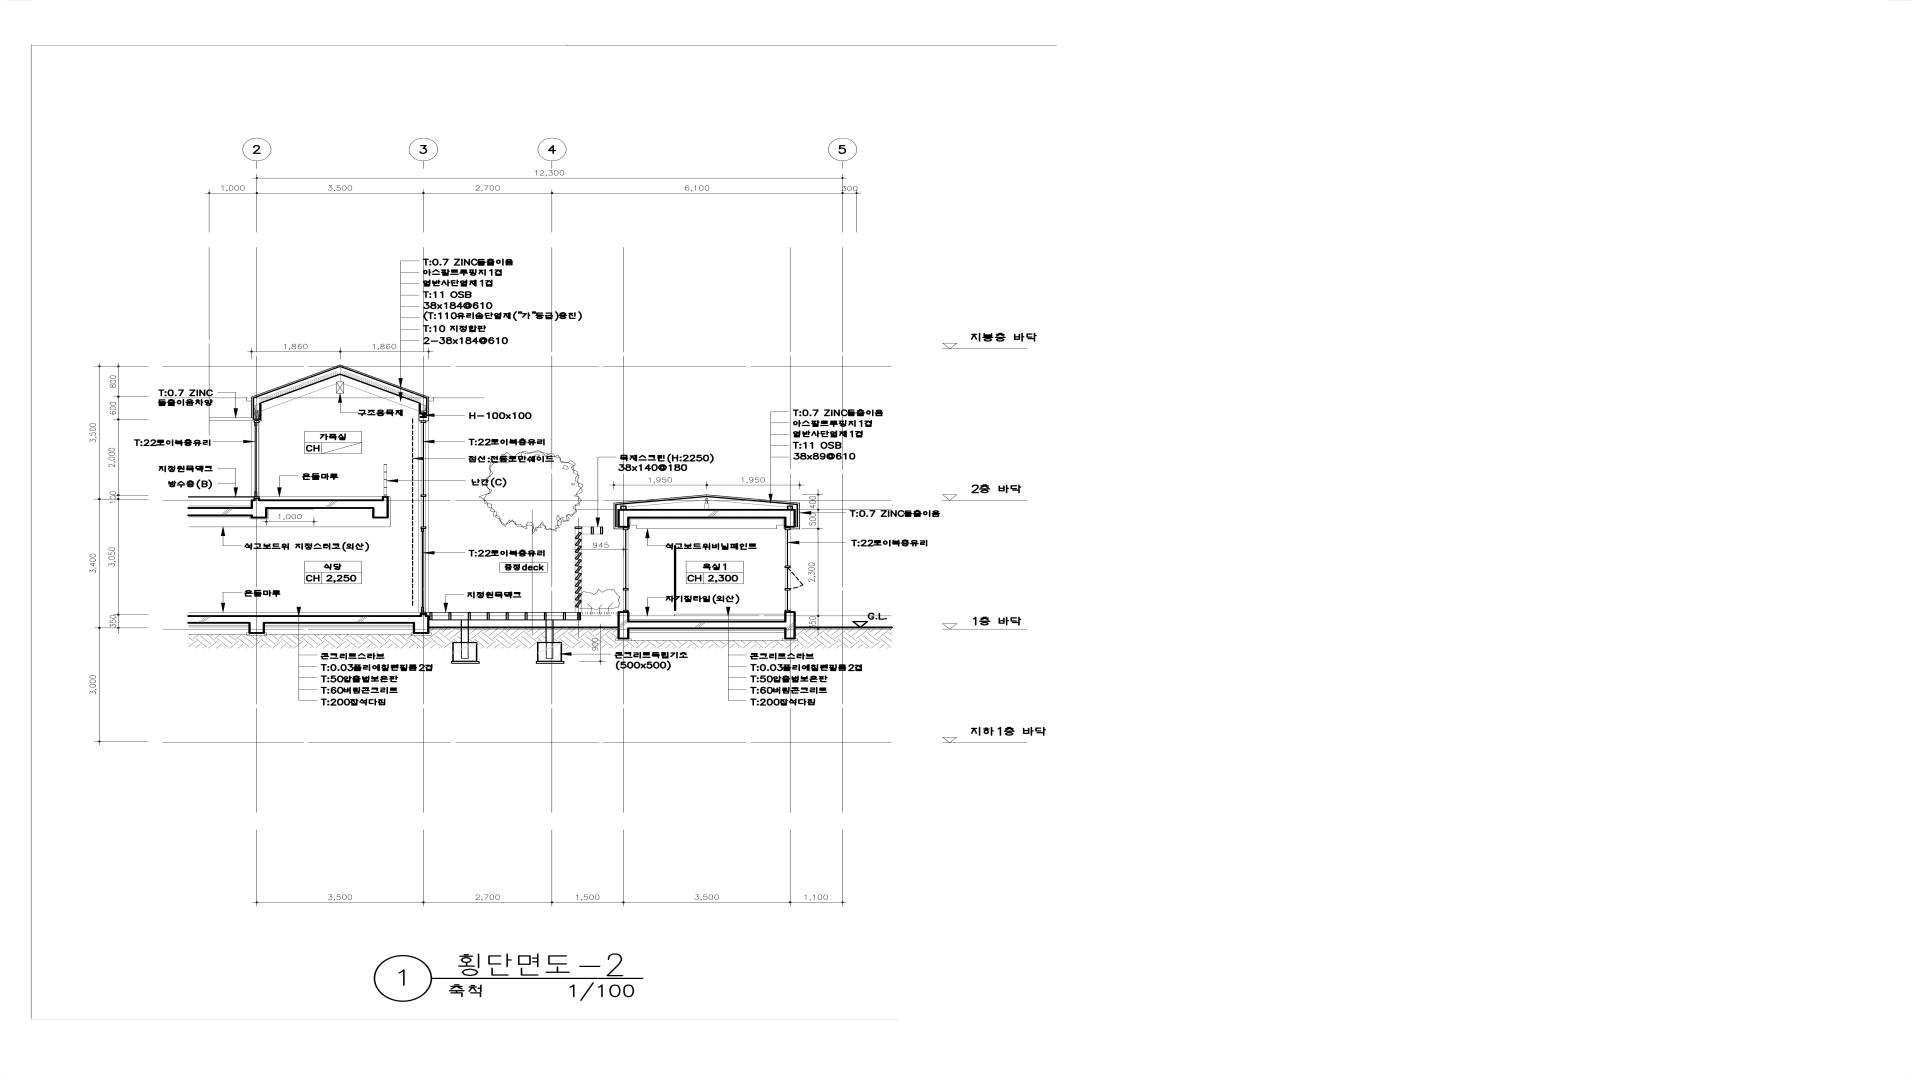door: (253, 421, 260, 497)
wall: (252, 365, 340, 404), (340, 365, 427, 404), (187, 615, 430, 624), (617, 509, 795, 518), (629, 621, 785, 629), (430, 612, 582, 620), (268, 500, 372, 509), (617, 495, 707, 505), (707, 495, 796, 505), (187, 508, 251, 517), (452, 642, 477, 661), (537, 642, 562, 661), (783, 611, 796, 640), (617, 611, 629, 640), (372, 500, 389, 518), (251, 500, 268, 518), (418, 398, 429, 421), (252, 397, 261, 421), (460, 621, 469, 642), (413, 624, 430, 634), (248, 624, 265, 634), (546, 620, 554, 642), (617, 518, 629, 527), (613, 502, 617, 527), (796, 502, 800, 527), (785, 518, 795, 527), (451, 661, 480, 663), (535, 661, 564, 663), (381, 496, 389, 500), (620, 505, 626, 509), (787, 505, 793, 509), (253, 497, 260, 500), (419, 613, 427, 615)
window: (421, 421, 426, 613), (622, 527, 629, 611), (785, 566, 804, 591), (785, 527, 791, 566), (785, 591, 791, 611)
